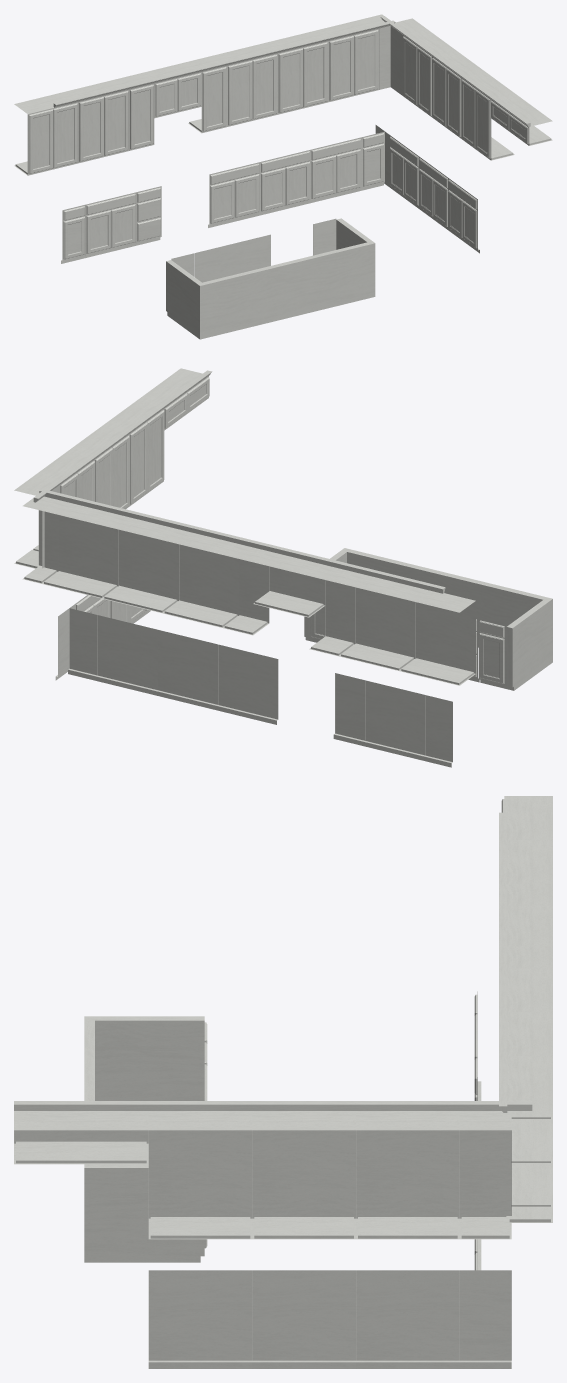
Rendered from 1989_kitchen_cabinets_linen.gltf.
3 renders of one model, top to bottom at view 1: azimuth 30°, elevation 25°; view 2: azimuth 150°, elevation 25°; view 3: azimuth 270°, elevation 25°, orthographic. The views are drawn at different scales.
Parts seen in each view (by area): view 1: Line23387; view 2: Line23387; view 3: Line23387.
Part boxes in pixels (x1,y1,x2,y2): Line23387: [14, 14, 552, 339]; Line23387: [14, 368, 552, 767]; Line23387: [14, 796, 552, 1368].
Bounding box in the file's own units: 7.63 × 2.93 × 5.2.
Materials: 1 (1 with a texture image).
